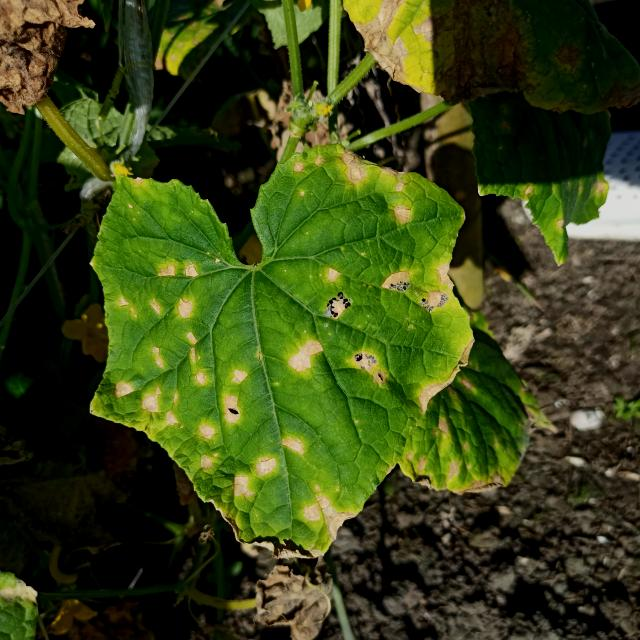disease_cucumber: (101, 149, 467, 533)
